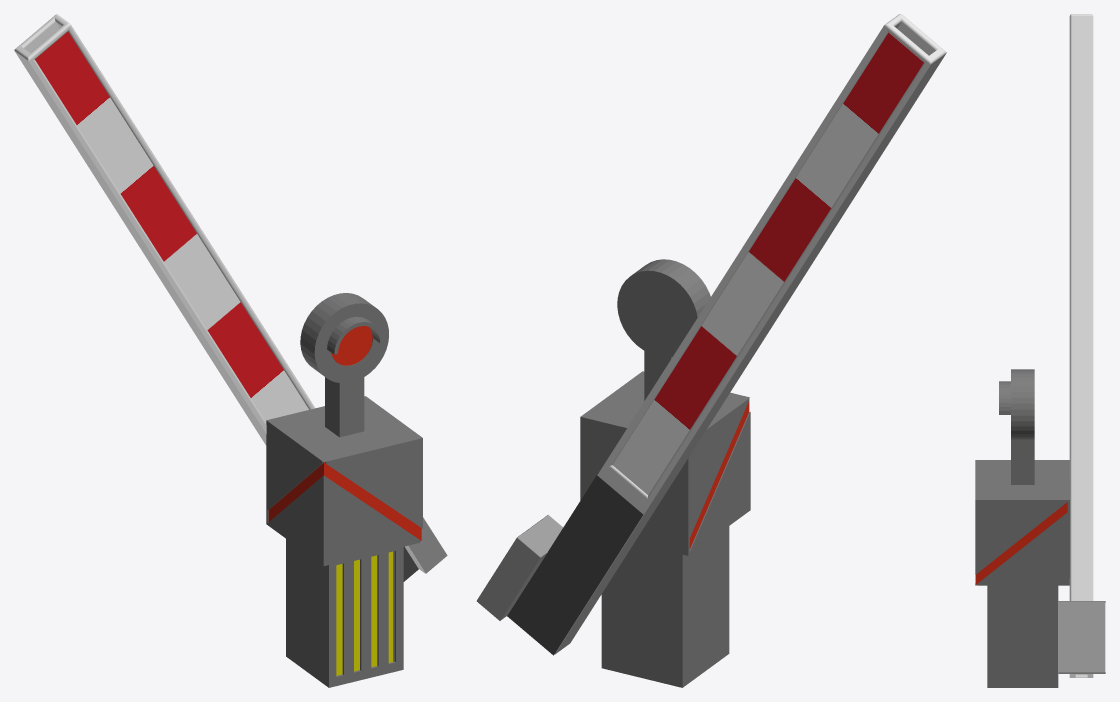
File: barriere_passage_a_niveau_assemblee.fbx
3 views of the same model, side by side, from view 1: azimuth 30°, elevation 25°; view 2: azimuth 150°, elevation 25°; view 3: azimuth 270°, elevation 25° (orthographic). The views are drawn at different scales.
Visible parts, largest first — view 1: socle_barriere_passage_a_niveau, BarrierePlastiqueAvant, barriere_passage_a_niveau, BandeReflechissanteJaune, BandeReflechissanteRougeAvant, LumiereStop, PoidsAvant, BandeReflechissanteRougeDroite; view 2: socle_barriere_passage_a_niveau, BarrierePlastiqueArriere, barriere_passage_a_niveau, ContrepoidsArriere, PoidsArriere.001, PoidsDroit, BandeReflechissanteRougeDroite; view 3: socle_barriere_passage_a_niveau, barriere_passage_a_niveau, PoidsDessus, BandeReflechissanteRougeGauche.
Boxes of the visible parts, left/top/right/bottom form: socle_barriere_passage_a_niveau: left=266, top=293, right=422, bottom=687; BarrierePlastiqueAvant: left=35, top=32, right=308, bottom=421; barriere_passage_a_niveau: left=14, top=14, right=425, bottom=573; BandeReflechissanteJaune: left=336, top=551, right=392, bottom=675; BandeReflechissanteRougeAvant: left=324, top=462, right=421, bottom=541; LumiereStop: left=331, top=326, right=372, bottom=365; PoidsAvant: left=408, top=517, right=447, bottom=573; BandeReflechissanteRougeDroite: left=268, top=462, right=323, bottom=521; socle_barriere_passage_a_niveau: left=580, top=259, right=750, bottom=687; BarrierePlastiqueArriere: left=613, top=32, right=923, bottom=494; barriere_passage_a_niveau: left=478, top=14, right=946, bottom=654; ContrepoidsArriere: left=507, top=475, right=643, bottom=655; PoidsArriere.001: left=477, top=538, right=540, bottom=620; PoidsDroit: left=517, top=515, right=563, bottom=557; BandeReflechissanteRougeDroite: left=689, top=401, right=748, bottom=548; socle_barriere_passage_a_niveau: left=975, top=369, right=1069, bottom=687; barriere_passage_a_niveau: left=1058, top=14, right=1093, bottom=677; PoidsDessus: left=1058, top=601, right=1105, bottom=672; BandeReflechissanteRougeGauche: left=976, top=502, right=1067, bottom=584.
Bounding box in the file's own units: 16581 × 26084 × 5498.
